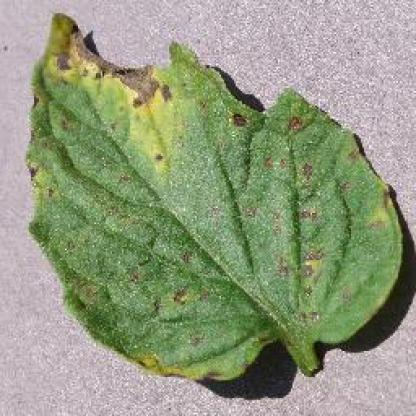bad leaf: (21, 10, 416, 394)
